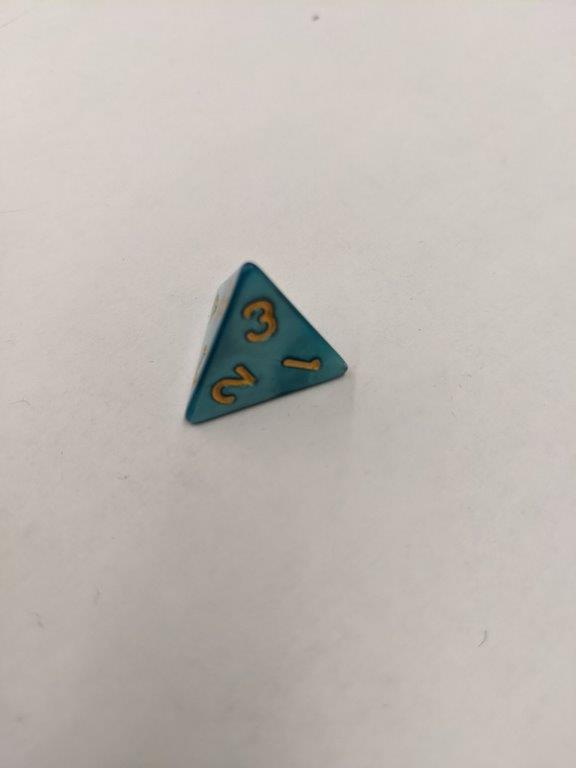d4-3: (181, 259, 351, 432)
